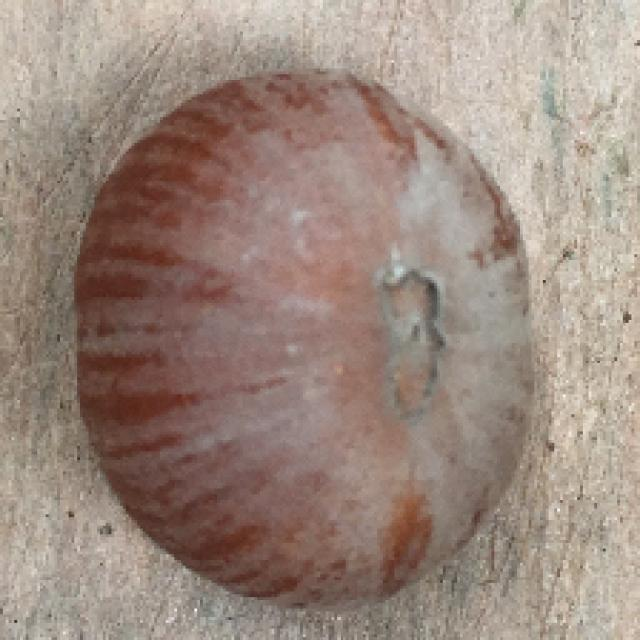qualityHazelnut: (68, 63, 548, 618)
